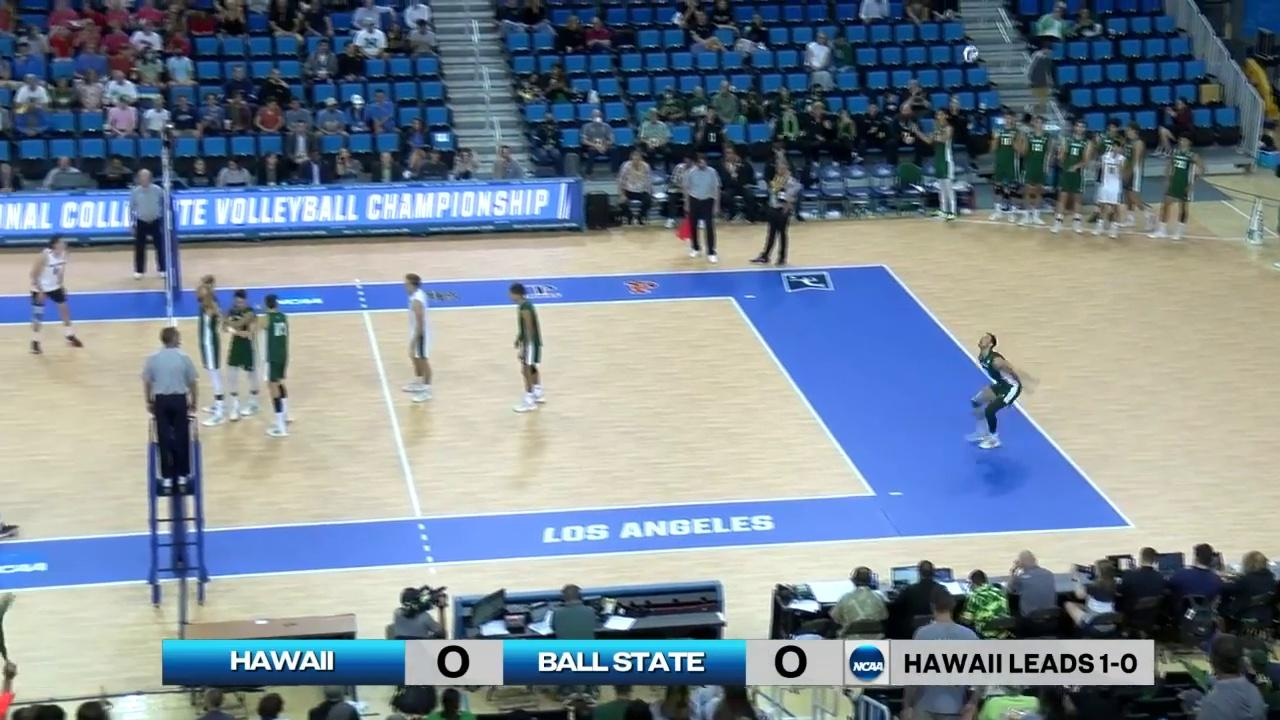player: (967, 332, 1039, 451), (256, 296, 299, 438), (29, 238, 82, 353), (398, 274, 437, 403), (195, 275, 227, 430), (508, 282, 547, 408), (226, 289, 260, 421)
refree: (140, 330, 200, 477), (127, 170, 169, 281), (683, 157, 721, 263)
